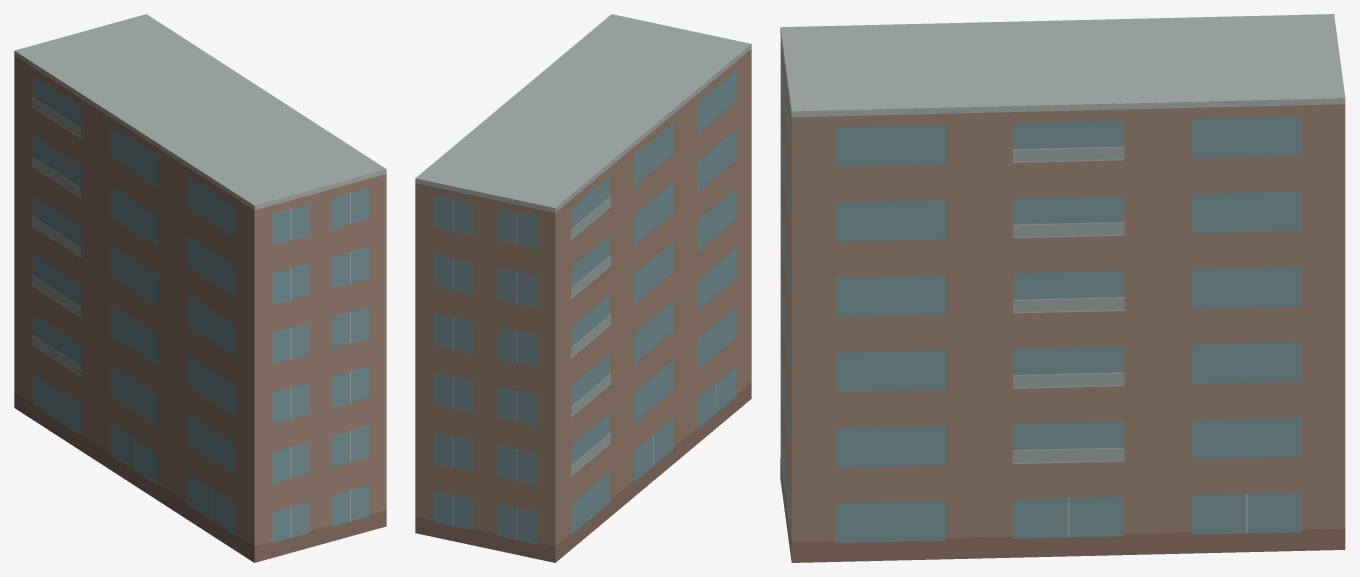
Rendered from survey-upis-32742555.glb.
The picture shows the model from 3 angles, left to right: view 1: azimuth 30°, elevation 25°; view 2: azimuth 150°, elevation 25°; view 3: azimuth 270°, elevation 25°; orthographic projection. The views are drawn at different scales.
Visible parts, largest first — view 1: survey-upis-32742555.tmp; view 2: survey-upis-32742555.tmp; view 3: survey-upis-32742555.tmp.
Part boxes in pixels (bbox=[...]): survey-upis-32742555.tmp: bbox=[14, 14, 386, 562]; survey-upis-32742555.tmp: bbox=[415, 14, 751, 562]; survey-upis-32742555.tmp: bbox=[780, 14, 1345, 562].
Size of the model in its own units: 8.47 by 18.3 by 20.76.
